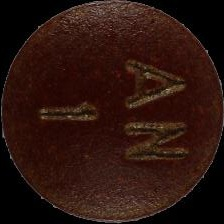51293-801: (0, 0, 224, 224)
